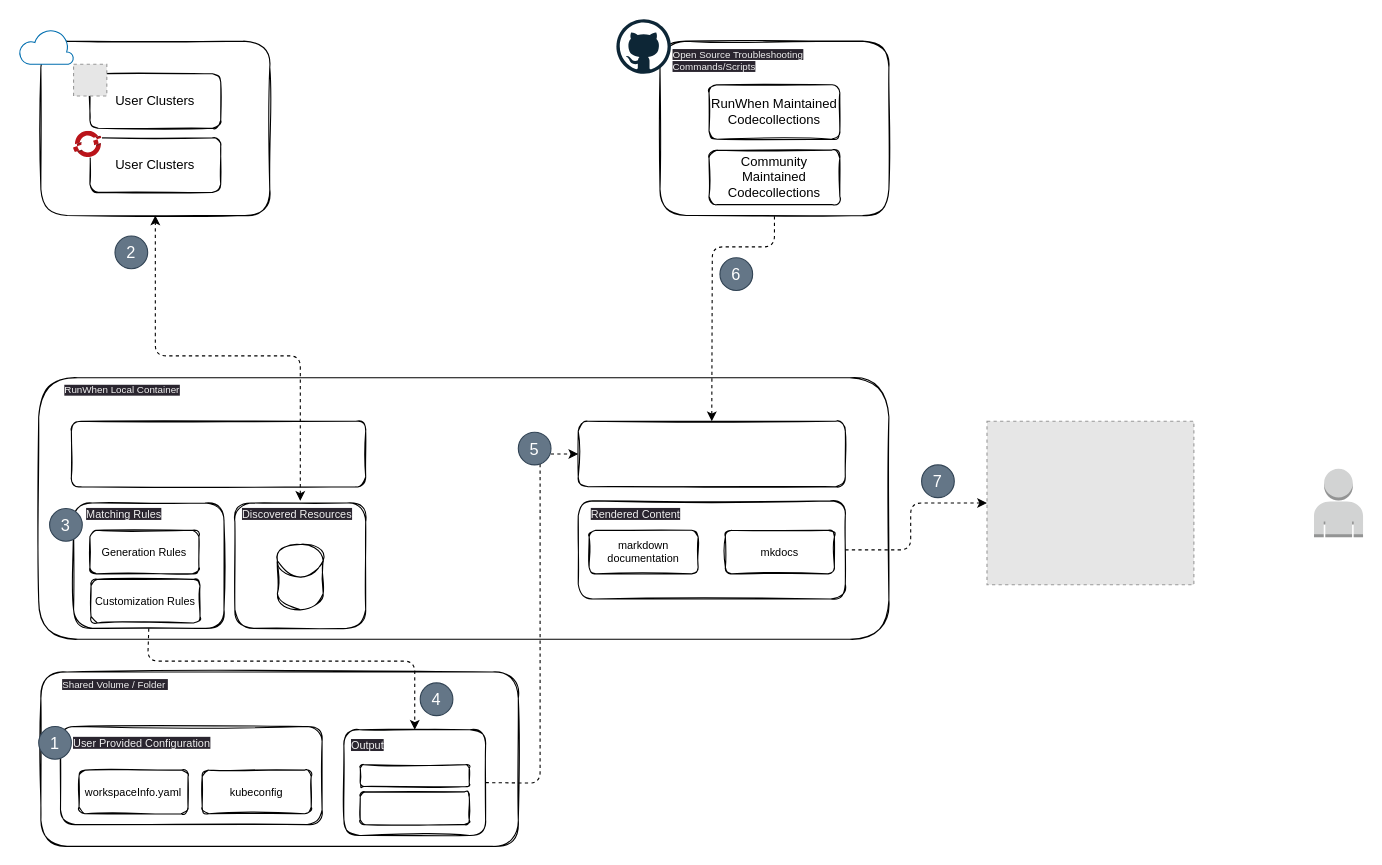
This 1382x865 diagram has some shape labels left out. Grey dashed boxes stand in for pictures. Here are the shapes that lost their labels. From the top down, the centre of each, then its label:
the point at 218,453: Workspace Builder
the point at 711,453: Cheat Sheet
the point at 414,775: Configuration Files
the point at 414,808: Repository References
